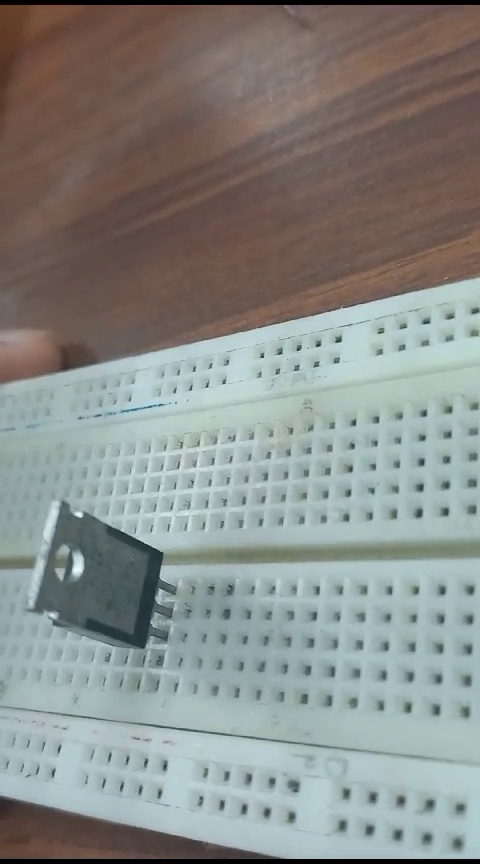voltage regulator: (26, 495, 177, 659)
